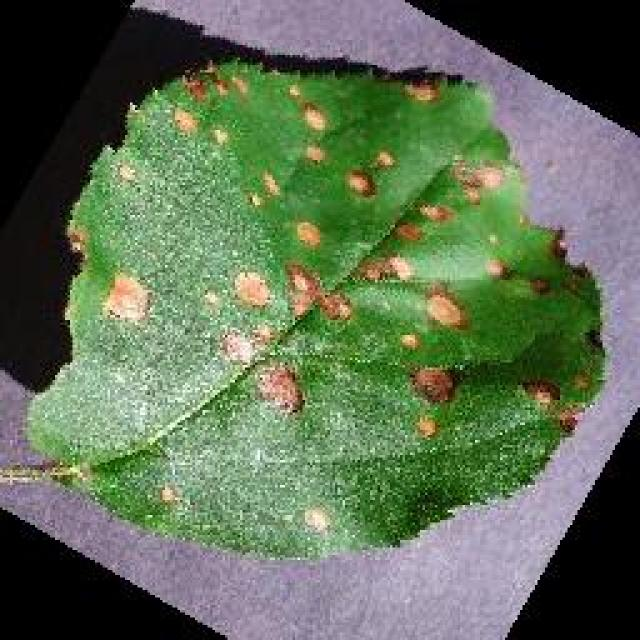Black_rot: (20, 52, 608, 560)
